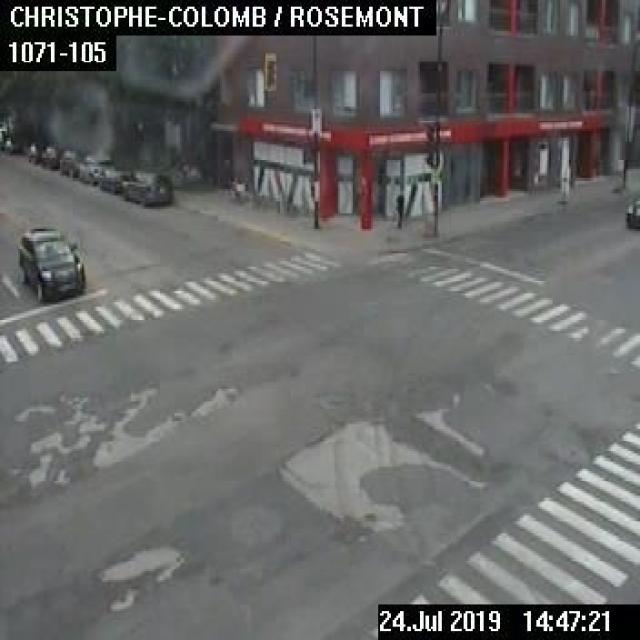vehicle: (16, 226, 84, 302), (122, 170, 172, 206), (77, 154, 111, 185), (98, 168, 126, 191), (58, 149, 80, 176), (624, 194, 638, 229), (40, 144, 60, 167), (27, 142, 40, 162)
